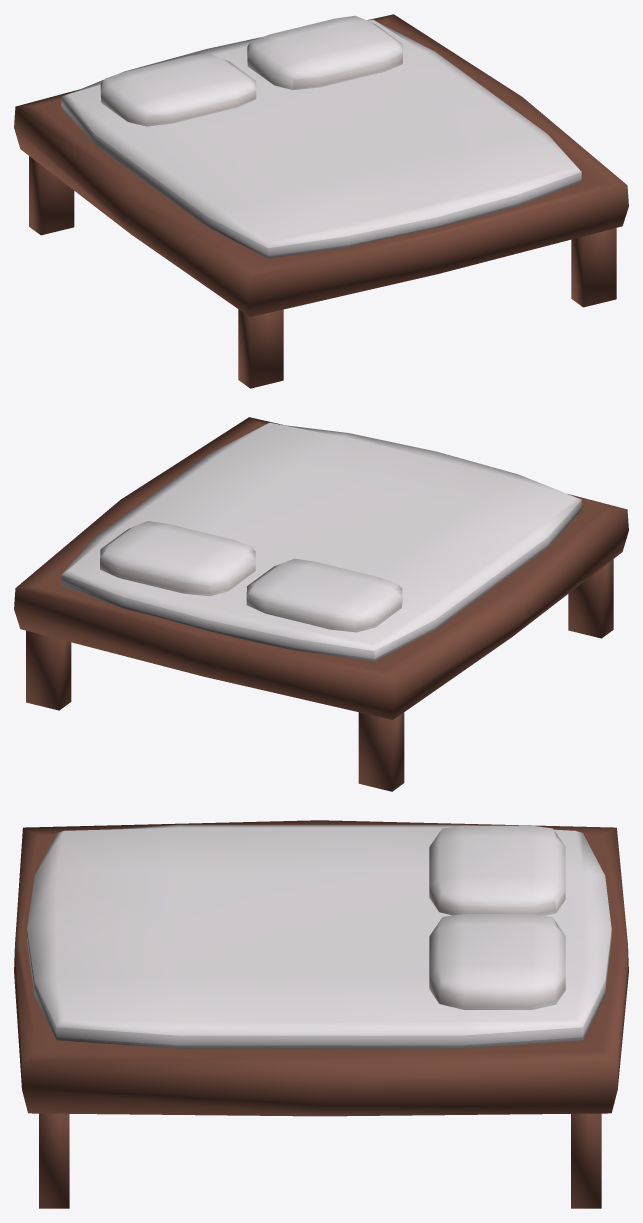
The model's file is CamadeCasal.fbx.
3 views of the same model, one above another, from view 1: azimuth 30°, elevation 25°; view 2: azimuth 150°, elevation 25°; view 3: azimuth 270°, elevation 25° (orthographic). The views are drawn at different scales.
Visible parts, largest first — view 1: CamaCasal; view 2: CamaCasal; view 3: CamaCasal.
Boxes of the visible parts, left/top/right/bottom form: CamaCasal: left=14, top=14, right=628, bottom=388; CamaCasal: left=14, top=417, right=628, bottom=791; CamaCasal: left=14, top=820, right=628, bottom=1208.
Size of the model in its own units: 273 by 99.01 by 283.
Materials: 1 (1 with a texture image).
